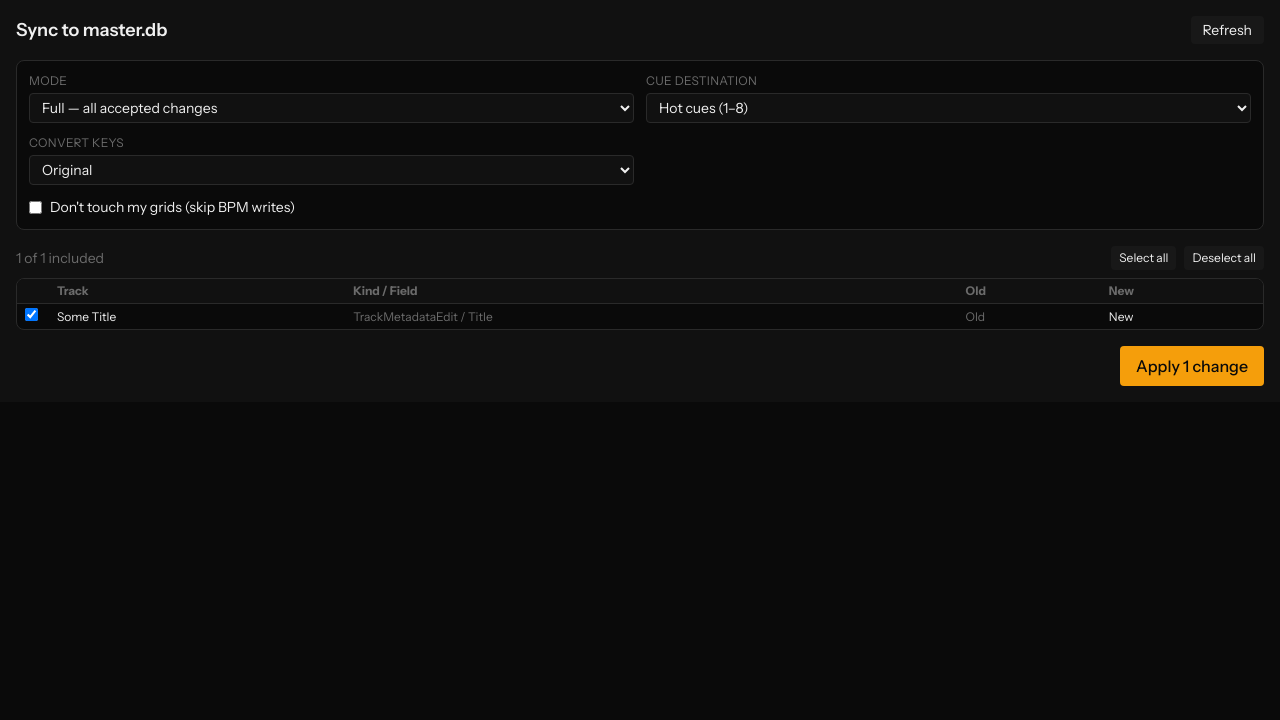
Test: SyncPanel › surfaces ApplyResult.warnings (e.g. key conversion failures) in the toast detail
Expected: the text "Some Title" is shown, [49, 304, 345, 329]
Click the button "Apply 1 change". click: (1192, 366)
box: [1120, 346, 1264, 386]
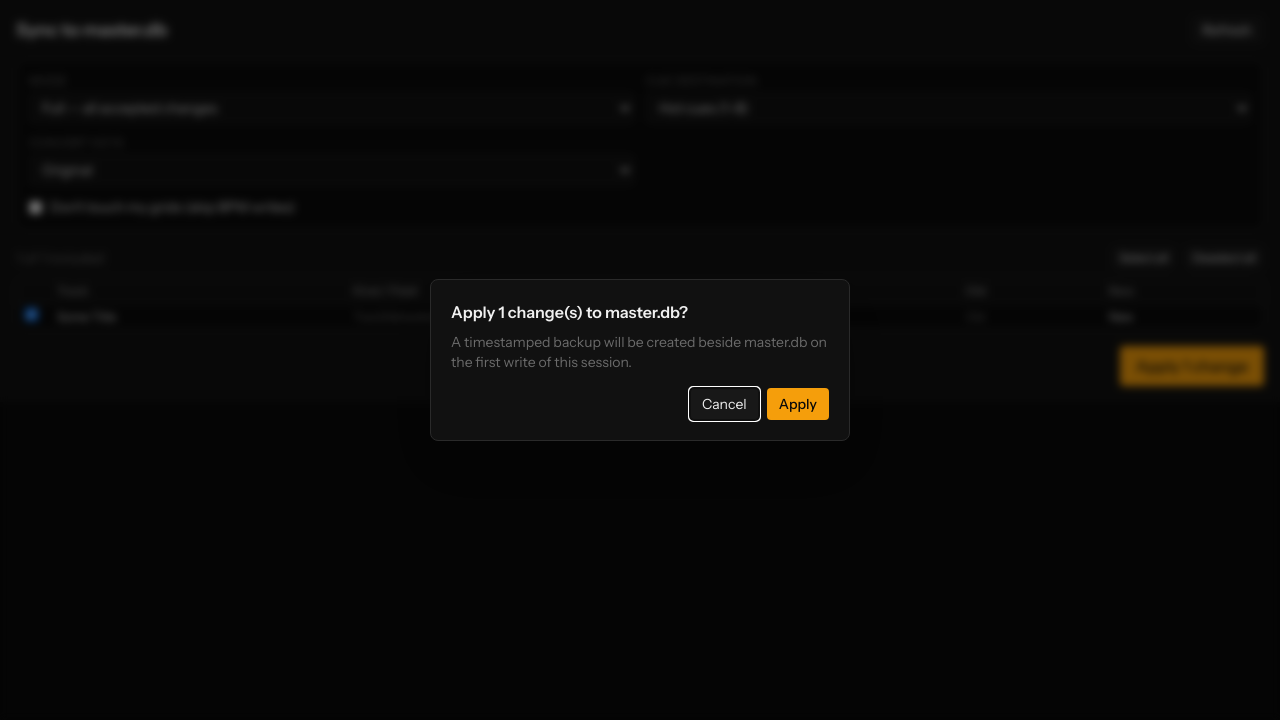
Click the button "Apply". click: (798, 404)
box: [767, 388, 829, 420]
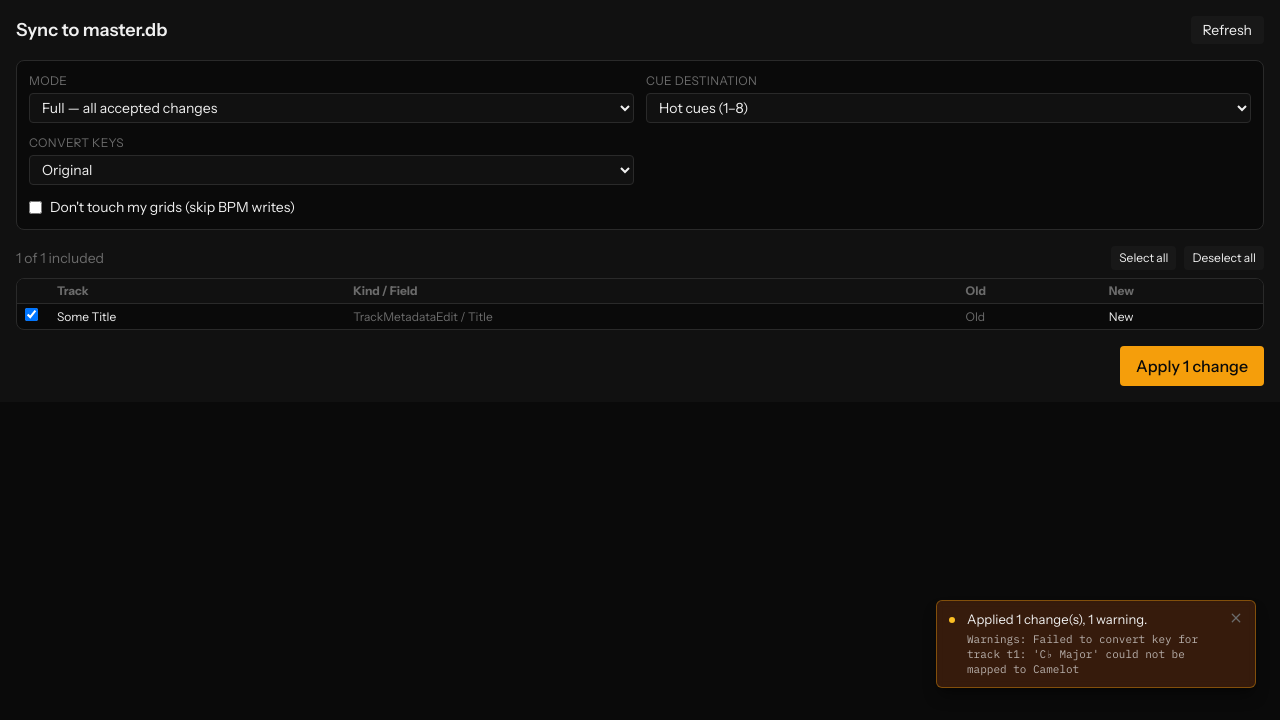
Expected: the text "Applied 1 change(s), 1 warning." is shown, [967, 611, 1147, 627]
Expected: the text "could not be mapped to Camelot" is shown, [967, 632, 1198, 676]
